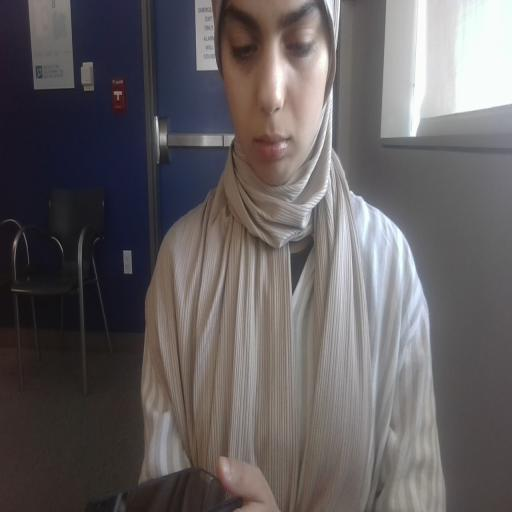phone: (114, 473, 283, 512)
